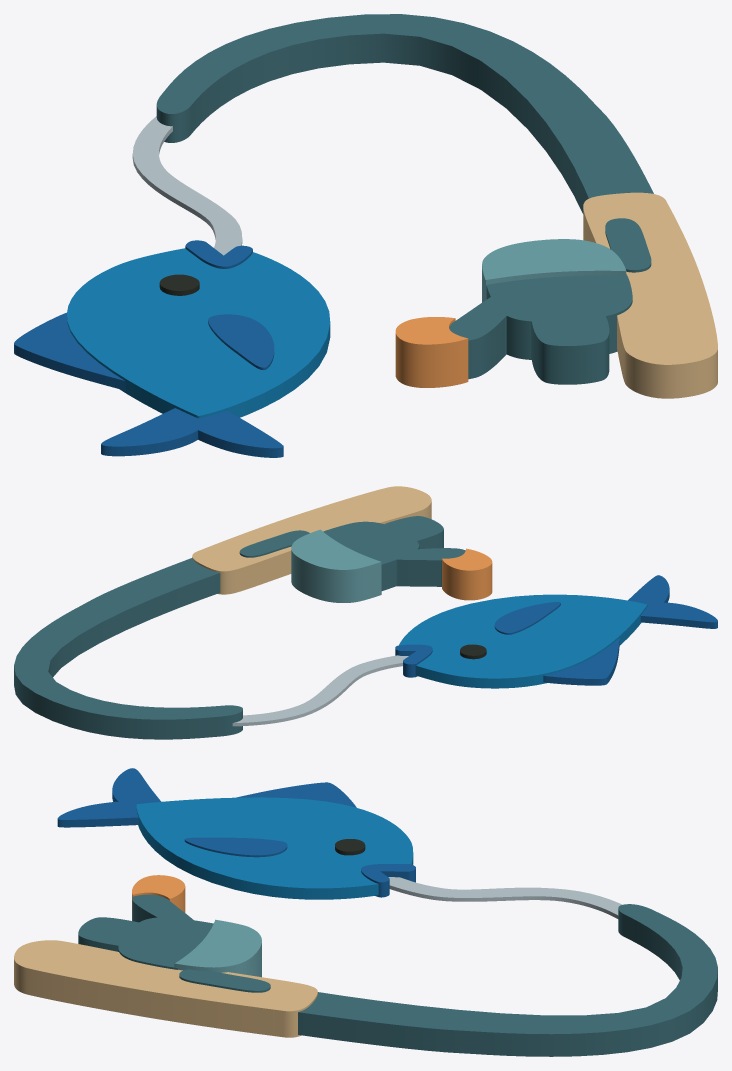
Rendered from emoji_u1f3a3.glb.
The picture shows the model from 3 angles, top to bottom: view 1: azimuth 30°, elevation 25°; view 2: azimuth 150°, elevation 25°; view 3: azimuth 270°, elevation 25°; orthographic projection. The views are drawn at different scales.
Visible parts, largest first — view 1: emoji_u1f3a3; view 2: emoji_u1f3a3; view 3: emoji_u1f3a3.
Boxes of the visible parts, <box> form: emoji_u1f3a3: <box>14,14,717,457</box>; emoji_u1f3a3: <box>14,486,717,739</box>; emoji_u1f3a3: <box>14,768,717,1056</box>.
Size of the model in its own units: 0.0311 by 0.002 by 0.0338.
